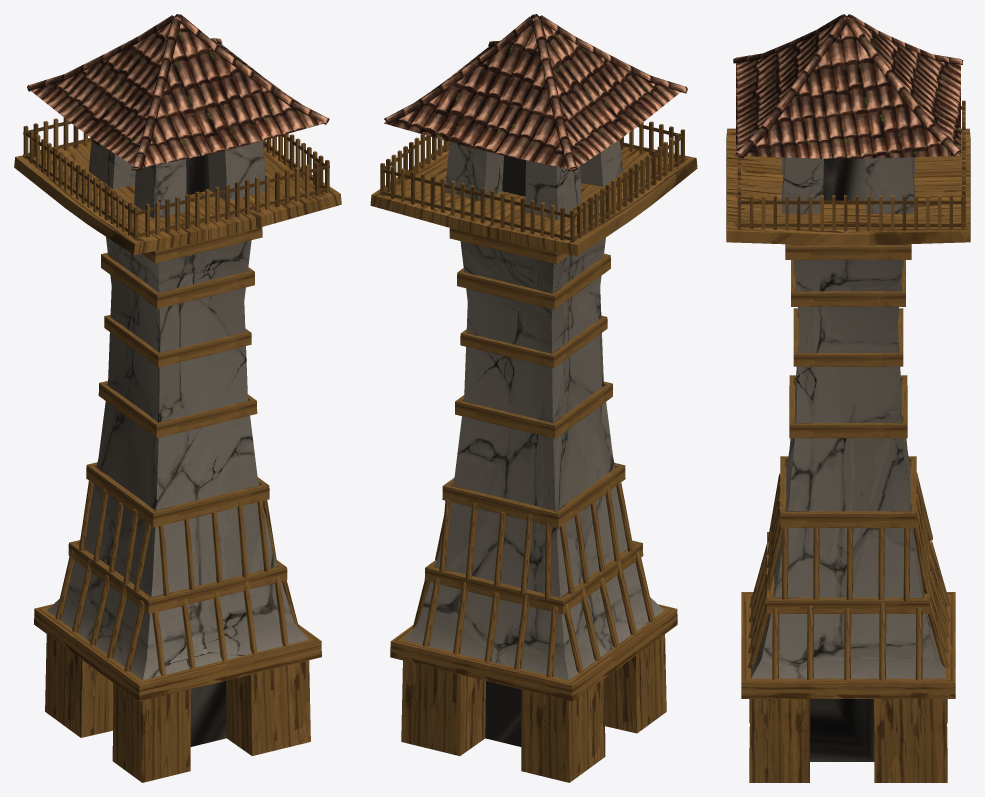
The model's file is tower_geo.fbx.
The picture shows the model from 3 angles, left to right: view 1: azimuth 30°, elevation 25°; view 2: azimuth 150°, elevation 25°; view 3: azimuth 270°, elevation 25°; orthographic projection.
Visible parts, largest first — view 1: tower_geo; view 2: tower_geo; view 3: tower_geo.
Part boxes in pixels (x1,y1,x2,y2): tower_geo: (14,14,341,782); tower_geo: (370,14,697,782); tower_geo: (726,14,970,782).
Bounding box in the file's own units: 7.68 × 25.11 × 7.68.
